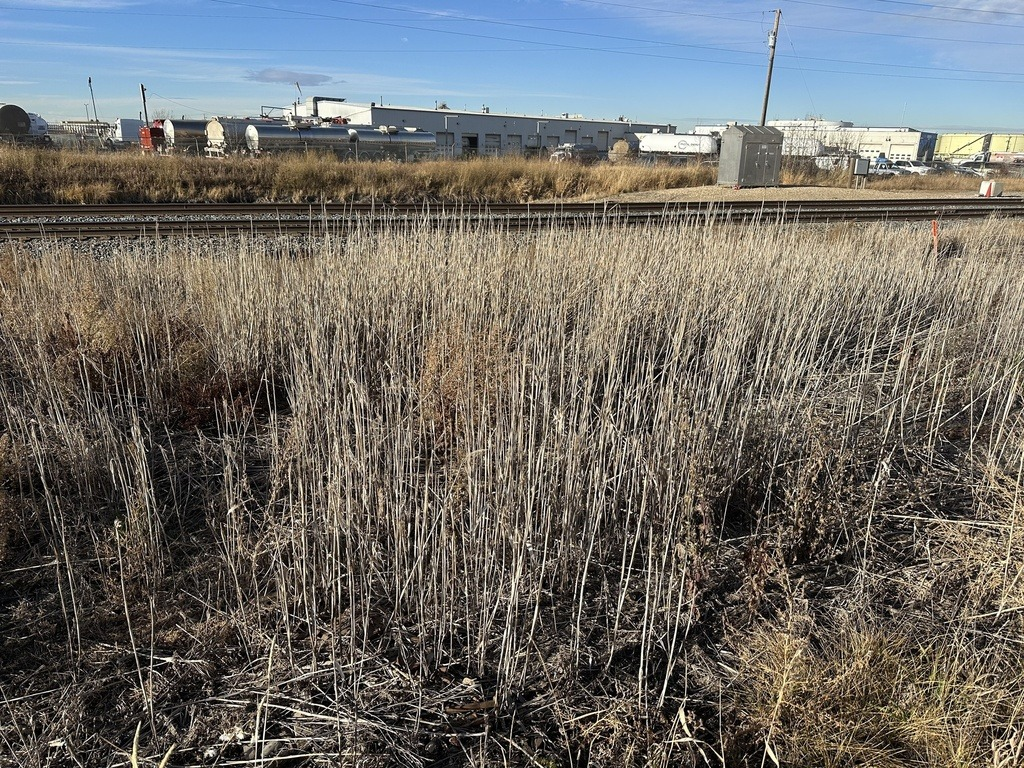common reed: (3, 193, 1020, 763)
